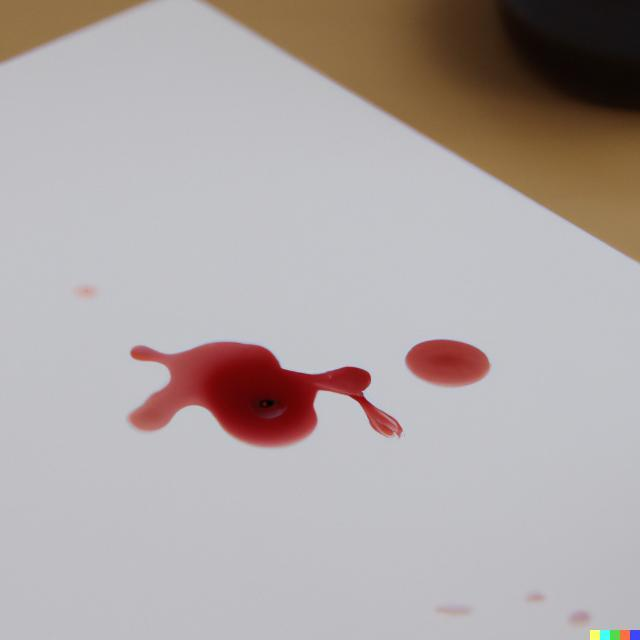blood: (128, 342, 403, 448), (404, 339, 491, 388)
